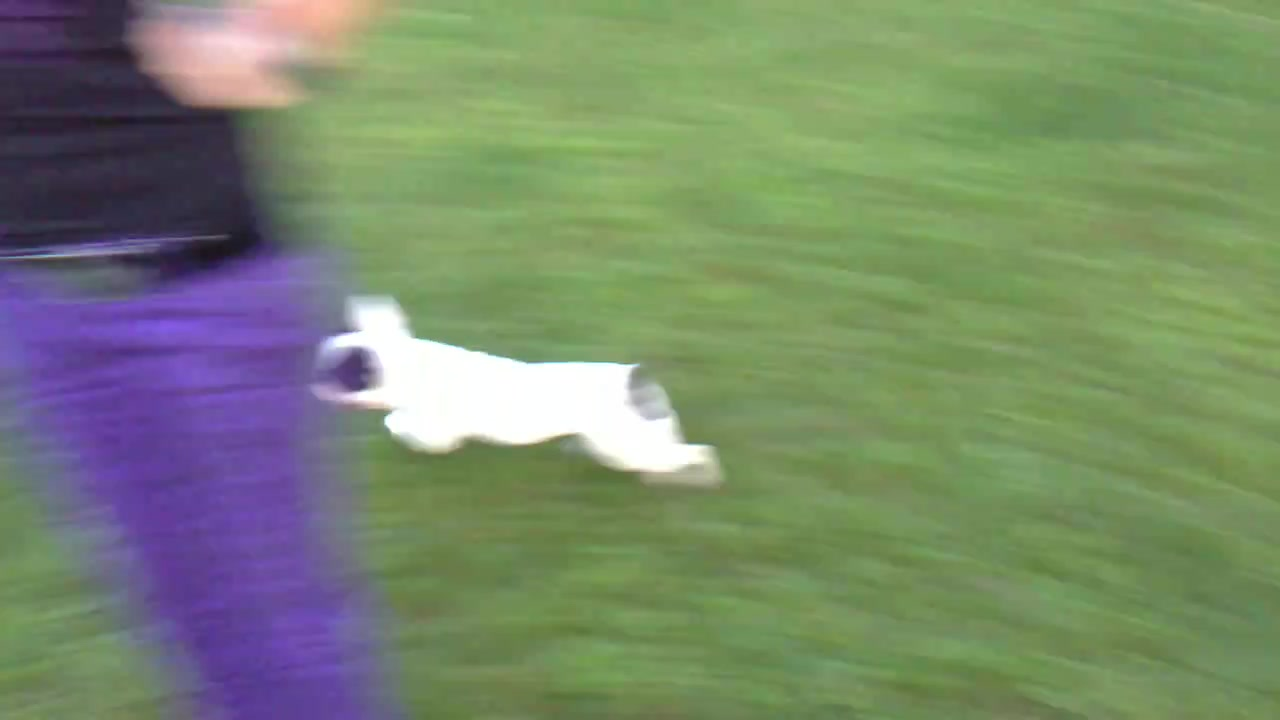dog: (301, 299, 729, 492)
